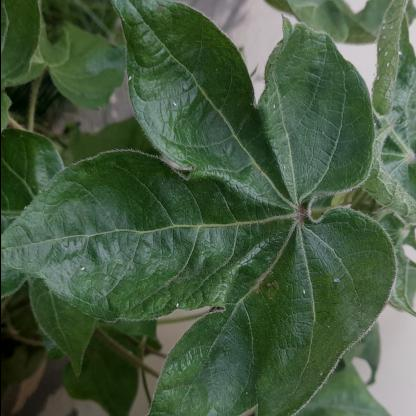curl_stage1: (93, 270, 217, 306), (163, 353, 209, 416)
curl_stage2: (376, 4, 403, 108), (370, 167, 413, 221), (373, 108, 413, 164)
healthy: (153, 173, 227, 266), (258, 233, 320, 333), (194, 84, 250, 170), (91, 161, 152, 235), (20, 208, 79, 280)
